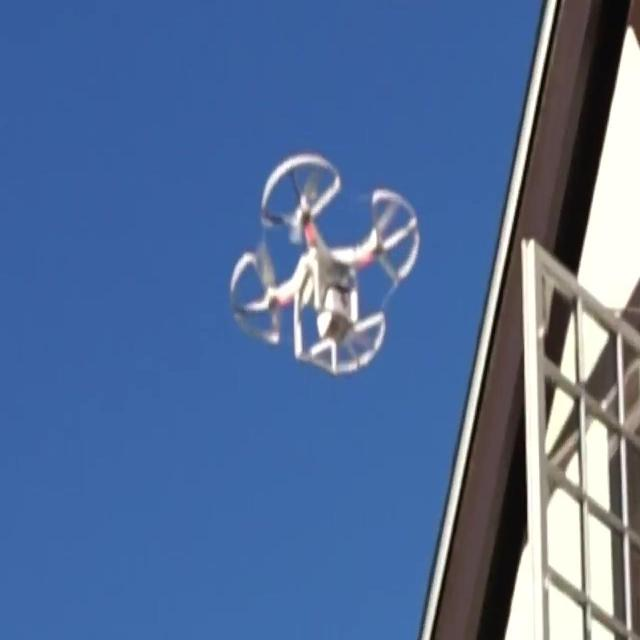drone: (228, 149, 420, 376)
